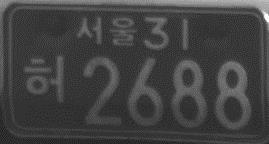1: (177, 15, 194, 51)
2: (81, 54, 125, 128)
3: (141, 14, 171, 52)
6: (126, 57, 165, 128)
8: (213, 60, 254, 131), (169, 58, 208, 130)
서울_O: (75, 15, 138, 48)
허: (22, 55, 66, 106)
